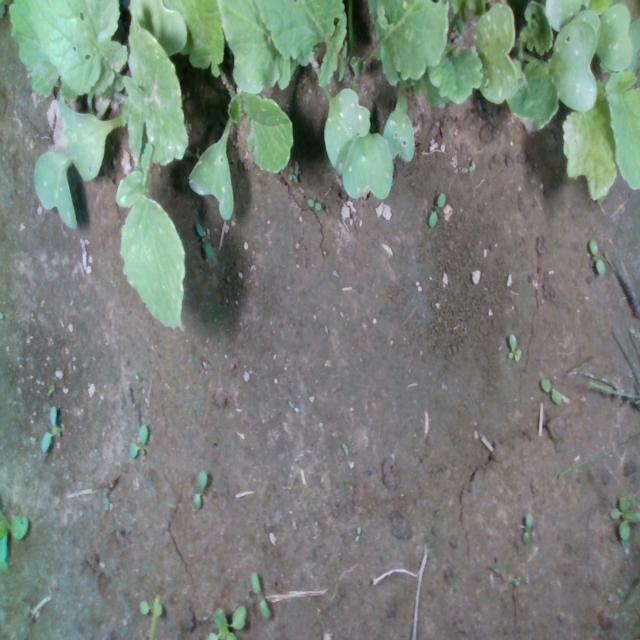weed: (250, 570, 270, 620), (39, 401, 57, 453), (194, 220, 214, 264), (128, 422, 148, 460), (427, 192, 447, 228), (540, 376, 562, 406), (192, 468, 208, 508), (589, 238, 605, 278), (507, 332, 522, 362), (522, 511, 534, 546), (287, 164, 297, 184), (307, 197, 321, 210), (354, 525, 360, 543)
